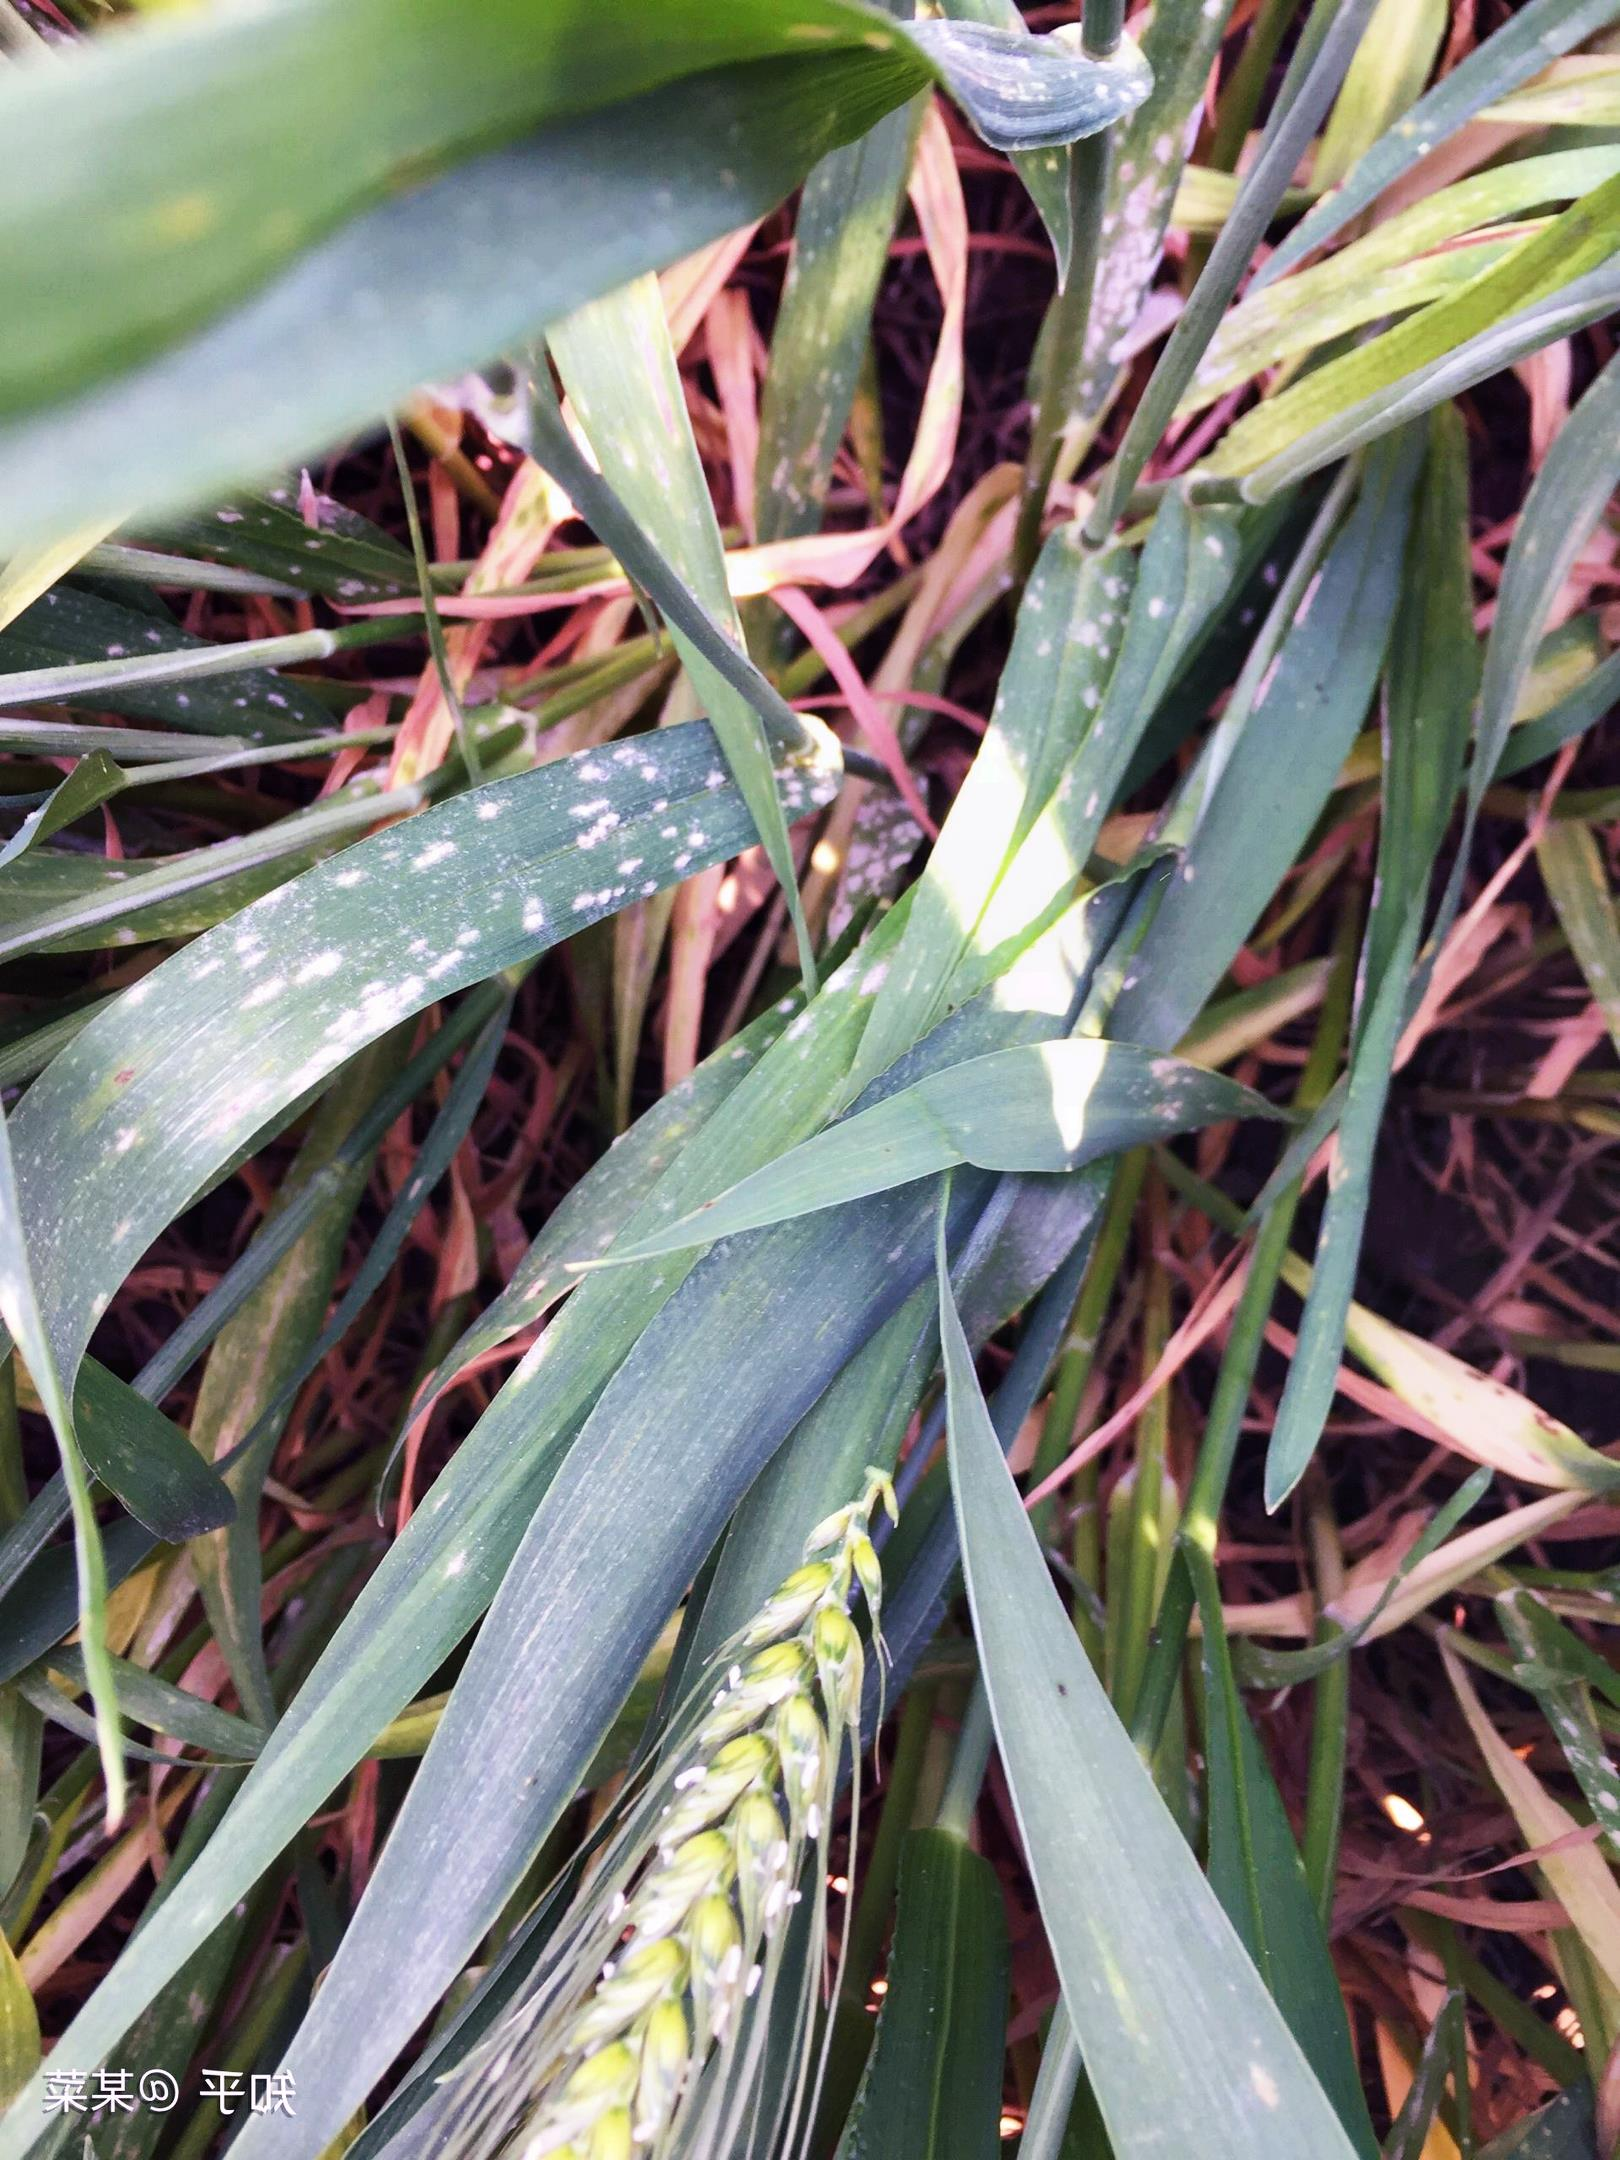Powdery Mildew: (180, 721, 740, 1032)
